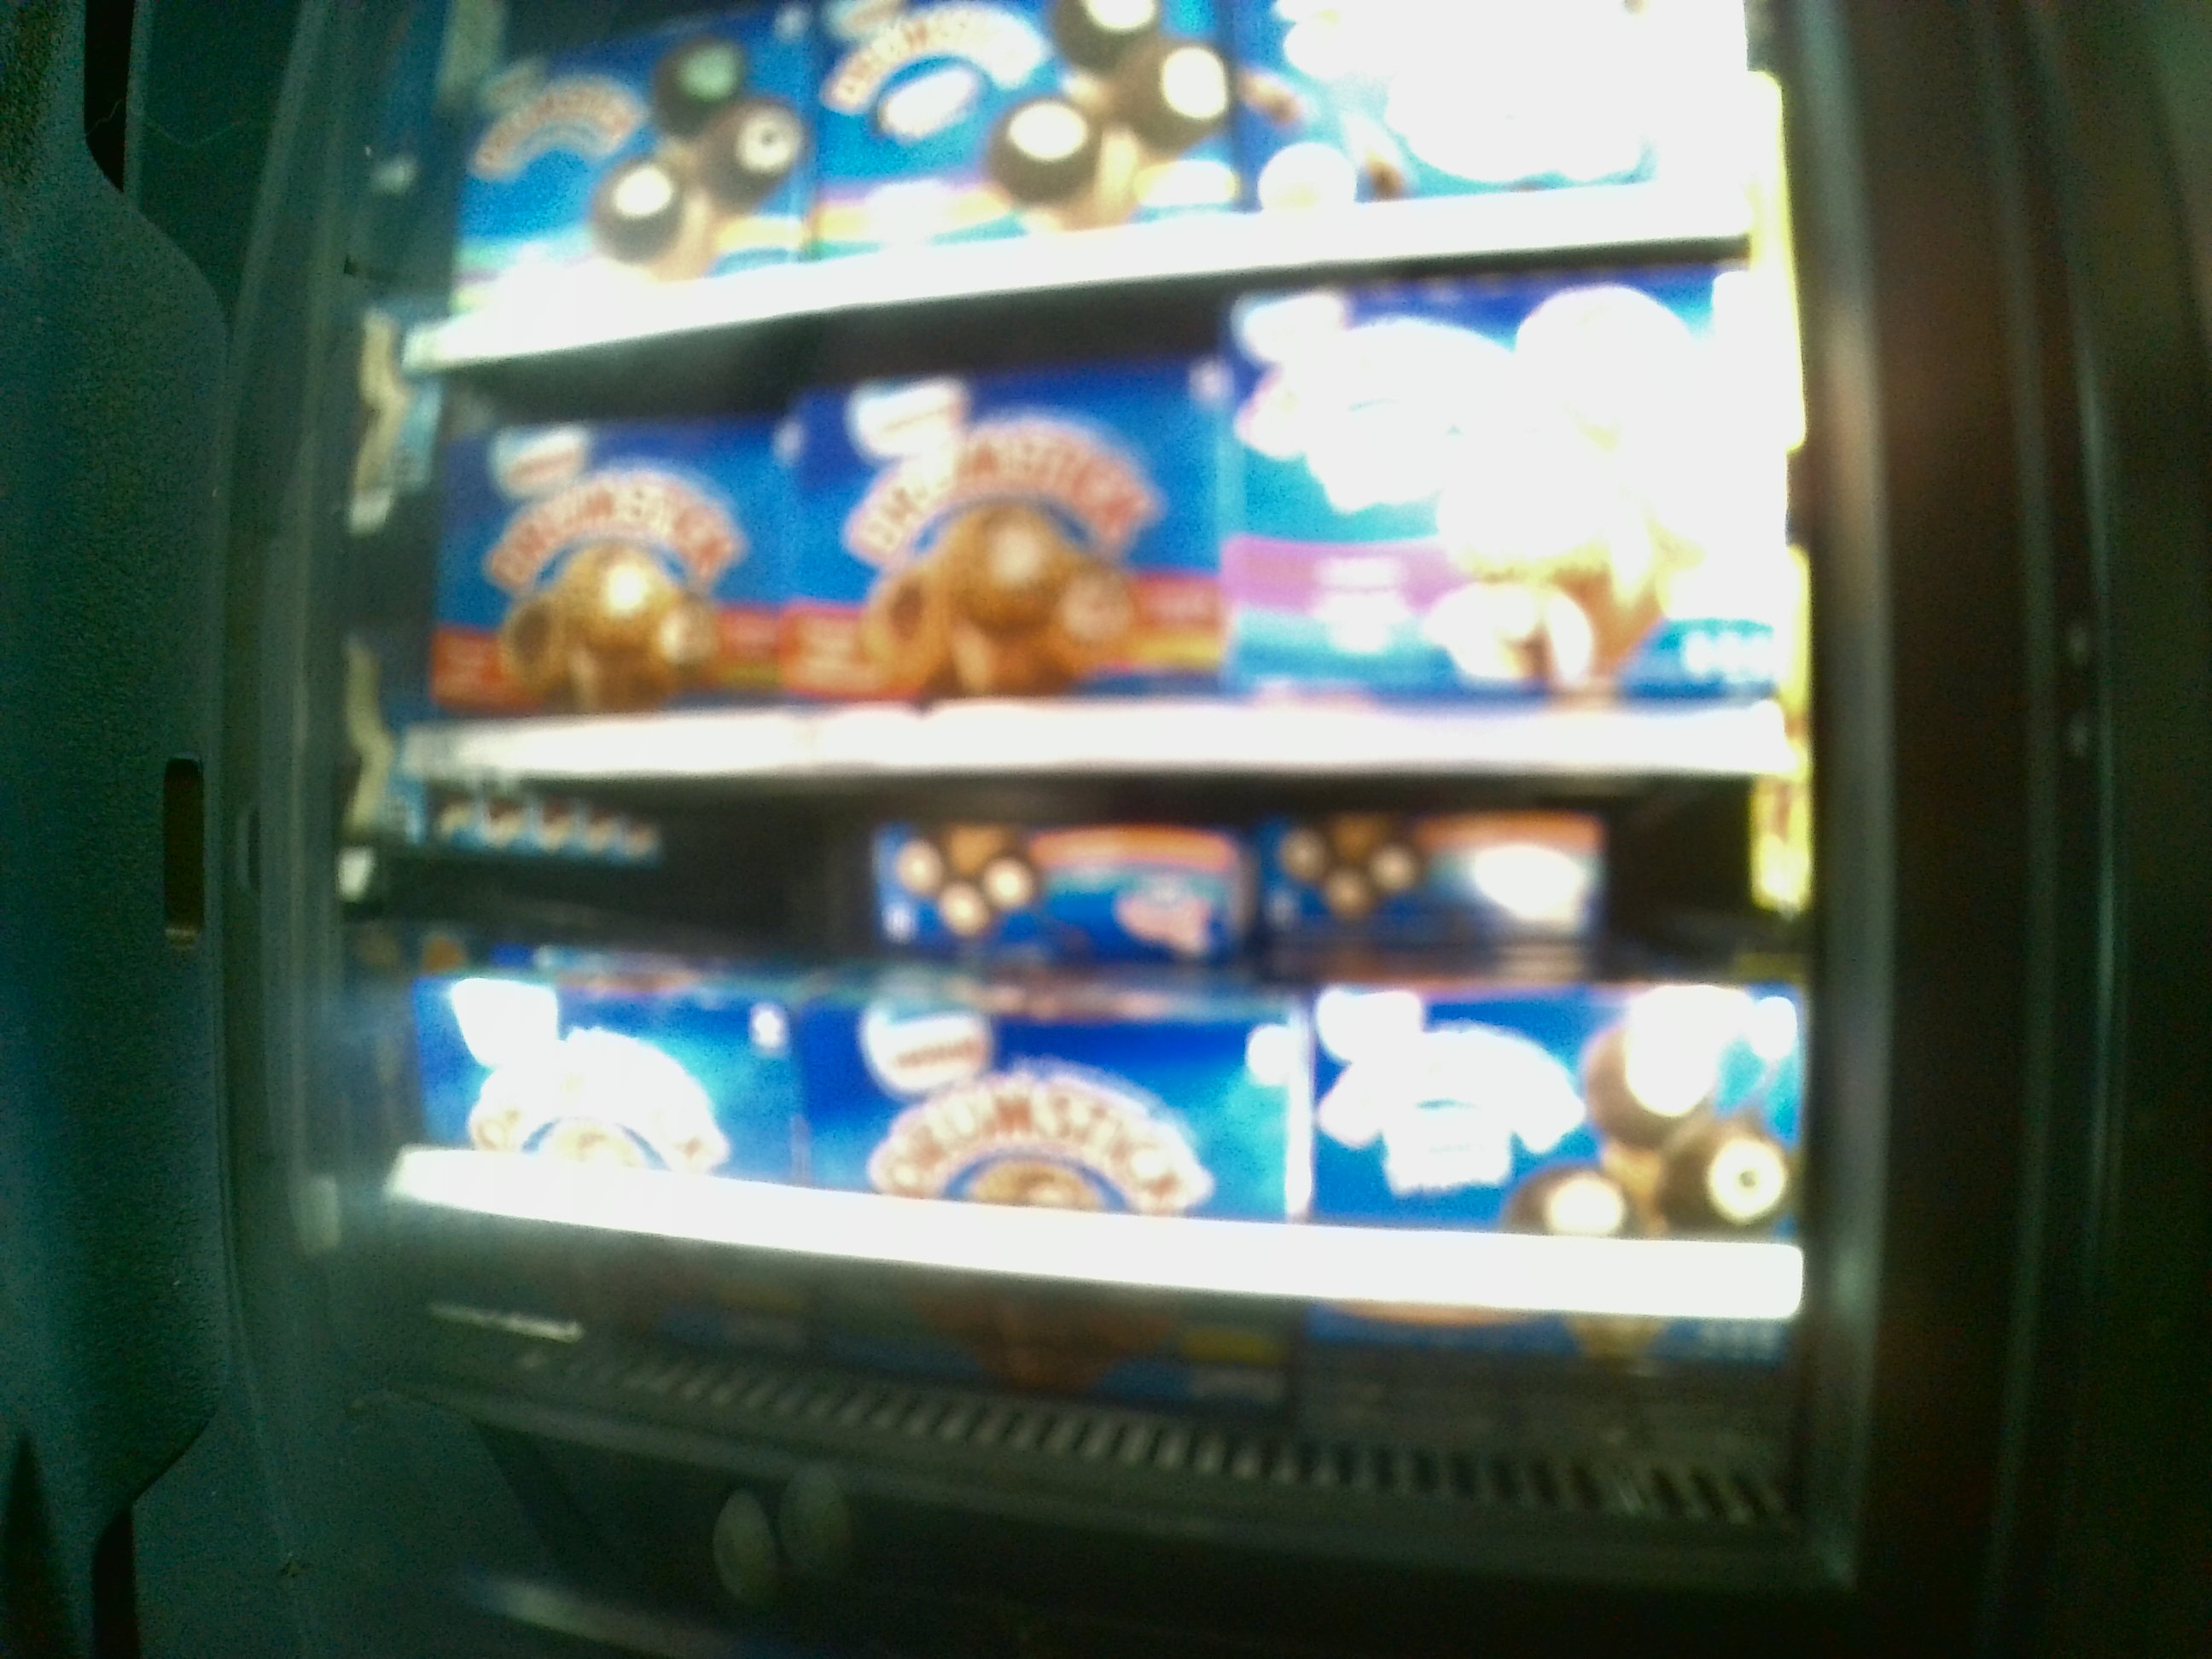shelf: (402, 775, 1806, 1438), (395, 246, 1822, 784)
